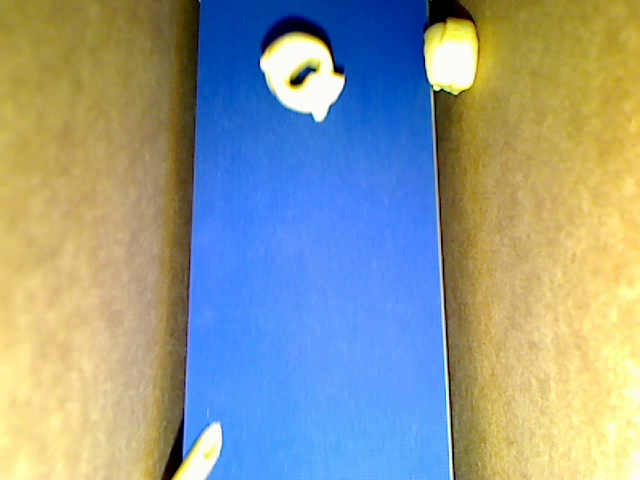penne: (170, 421, 223, 479)
tortellini: (257, 32, 346, 123)
